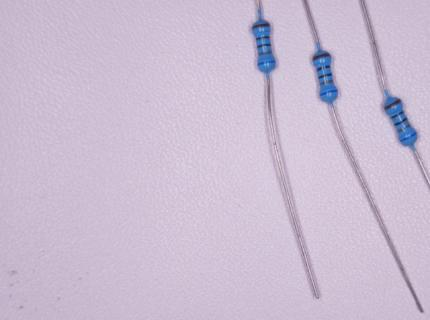Blue band: (400, 132, 417, 142), (320, 89, 337, 96), (258, 61, 276, 66)
Grey band: (397, 123, 411, 133), (320, 80, 333, 86), (258, 51, 272, 56)
